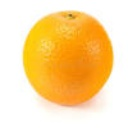orange: (22, 9, 116, 106)
